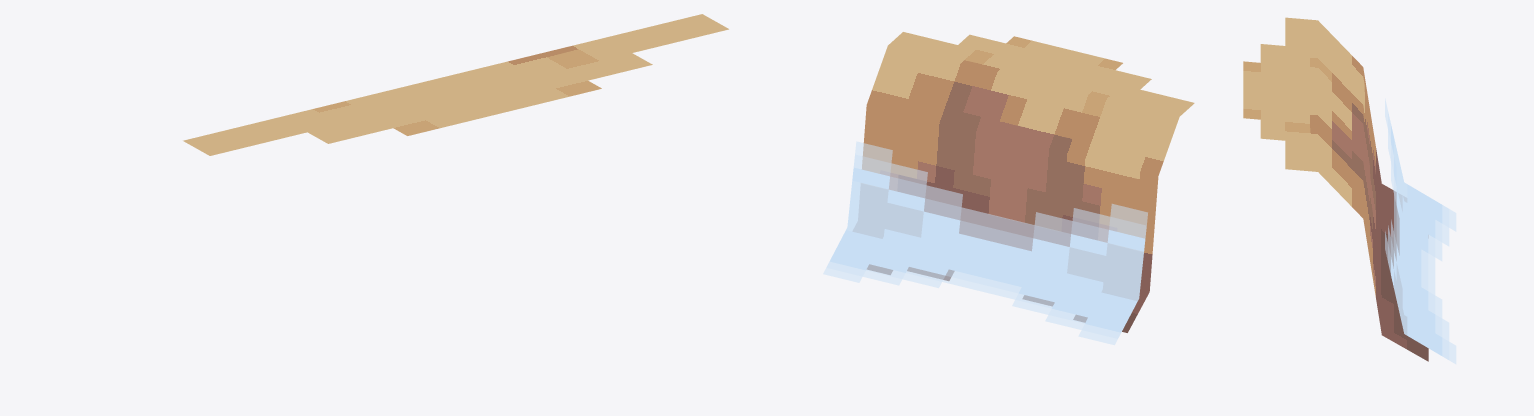
3 views of the same model, side by side, from view 1: azimuth 30°, elevation 25°; view 2: azimuth 150°, elevation 25°; view 3: azimuth 270°, elevation 25° (orthographic). The views are drawn at different scales.
Bounding box in the file's own units: 1 × 0.7266 × 0.7695.
Materials: 2 (2 with a texture image).
